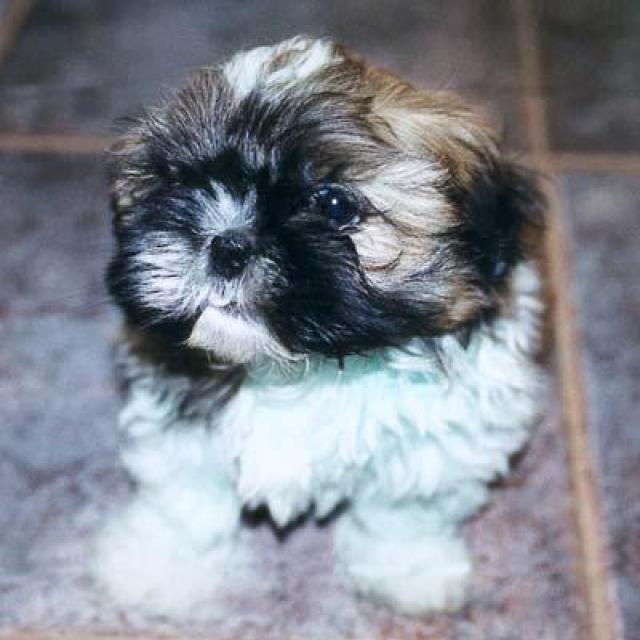shih_tzu: (99, 32, 555, 610)
